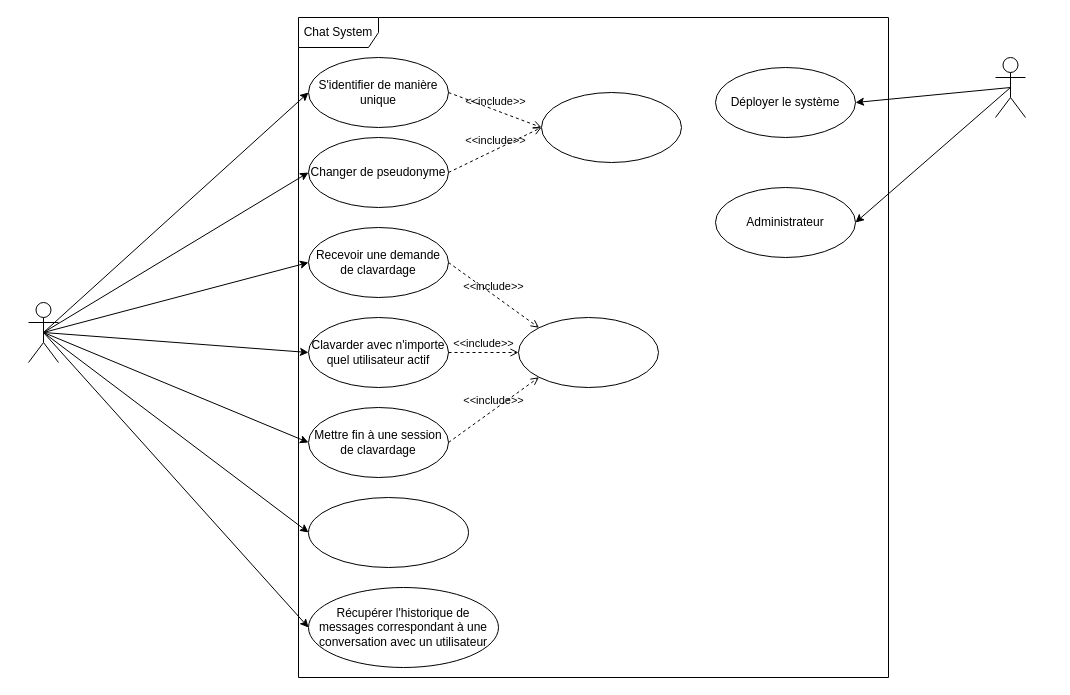
This 1070x695 diagram has some shape labels left out. Here are the shapes that lost their labels. From the top down, the centre of each, then its label:
At point 1010,87: "Adminnistrateur".
At point 611,127: "Choisir un pseudonyme unique".
At point 43,332: "Utilisateur".
At point 588,352: "Démarrer une session de clavardage".
At point 388,532: "Réduire une session de clavardage dans la barre des tâches".
